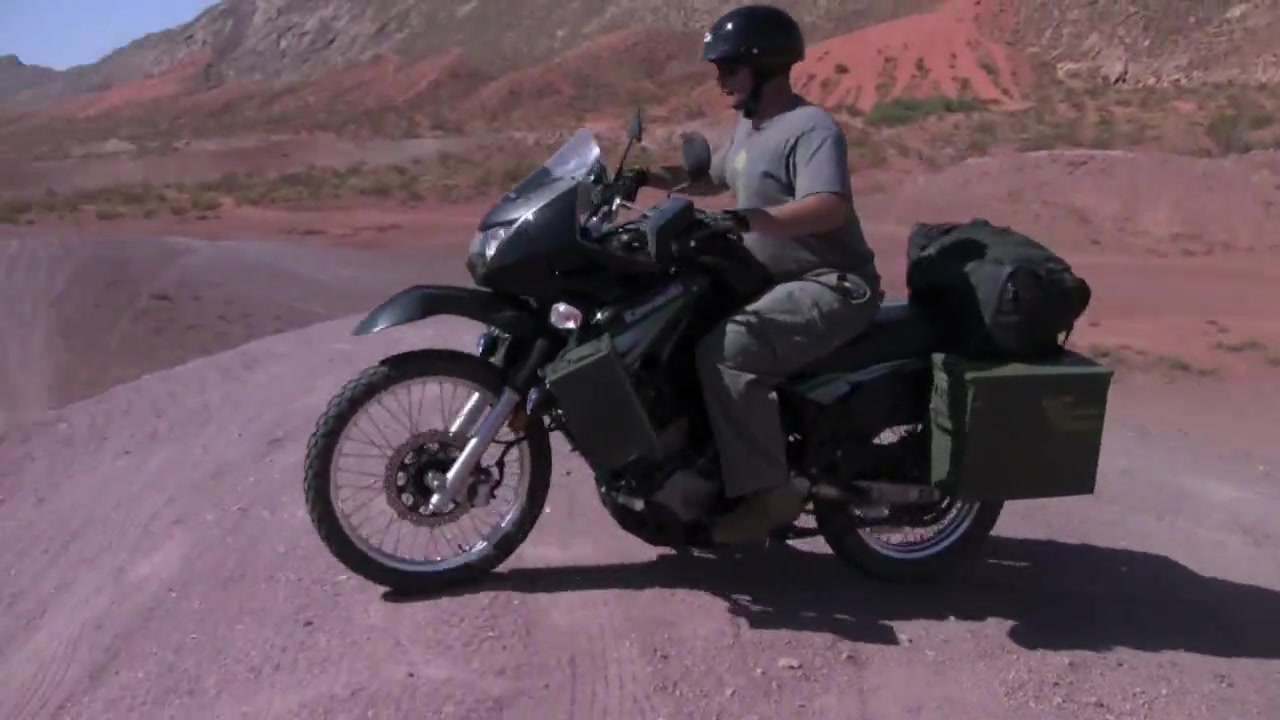motorbike: (295, 109, 1117, 600)
